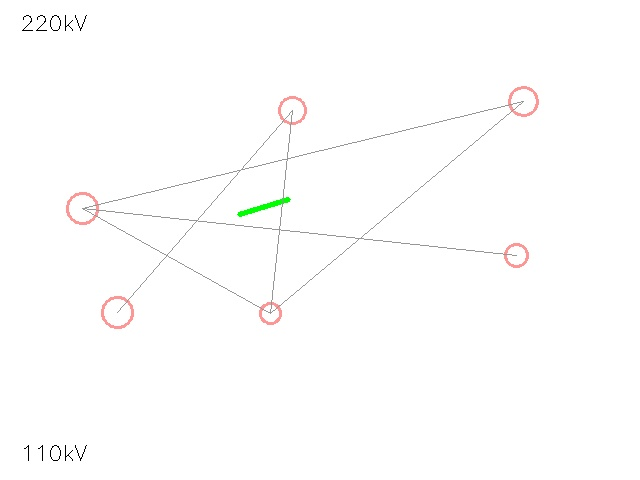busbar: (232, 175, 296, 239)
current_transformer: (494, 72, 552, 130), (266, 84, 318, 136), (494, 233, 538, 277)
disconnect_switch: (52, 178, 112, 238)
feeder_terminal: (86, 281, 148, 343)
fuse: (250, 293, 290, 333)
